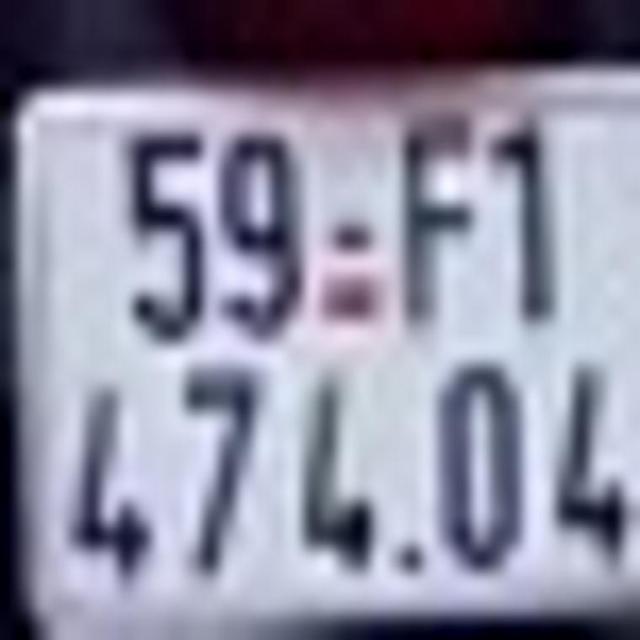0: (425, 352, 531, 587)
1: (492, 105, 558, 321)
4: (73, 374, 158, 588), (295, 362, 379, 570), (550, 354, 632, 567)
5: (125, 125, 211, 346)
7: (176, 356, 260, 583)
9: (222, 126, 302, 338)
F: (400, 100, 484, 335)
